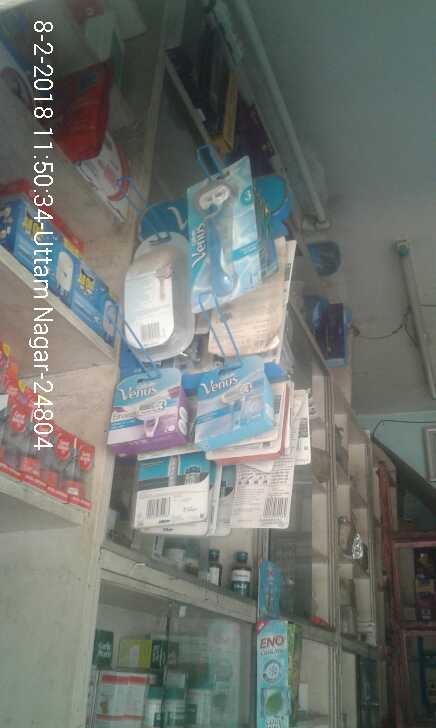venus: (190, 165, 267, 318), (189, 356, 275, 451), (98, 365, 190, 451)
